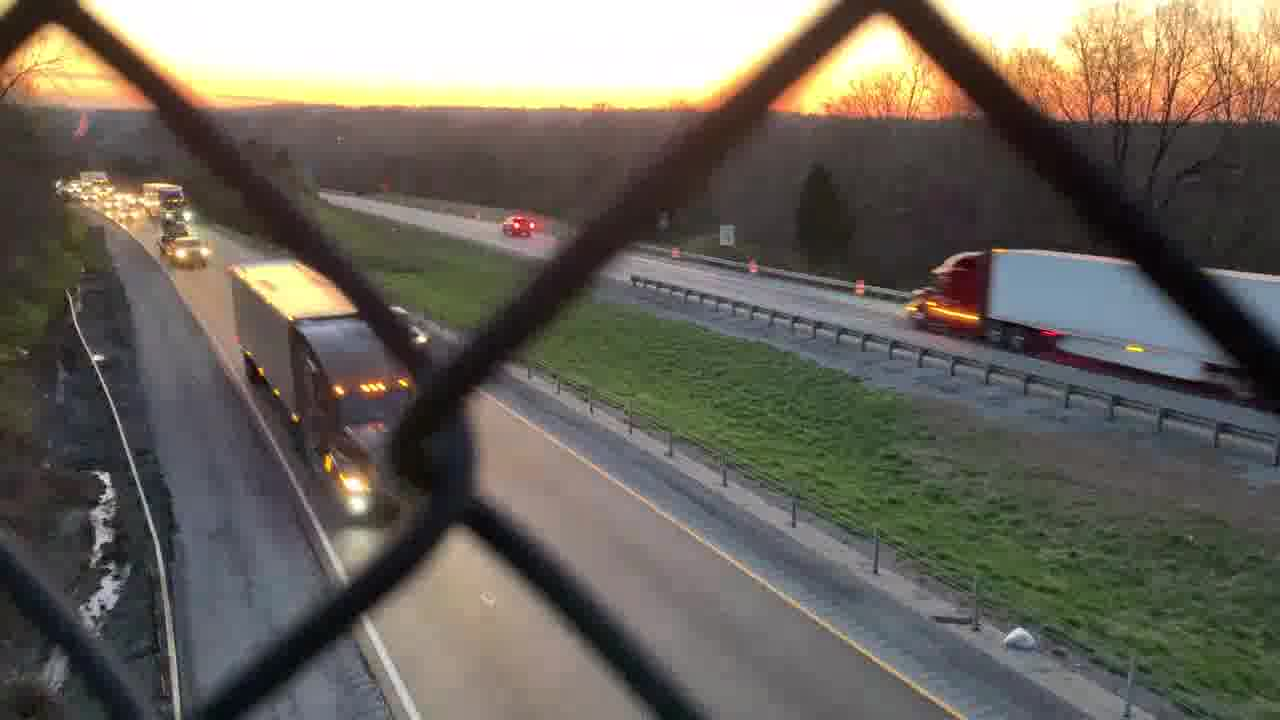heavyTruck: (222, 255, 433, 513), (901, 242, 1280, 380)
lightTruck: (495, 211, 536, 238)
